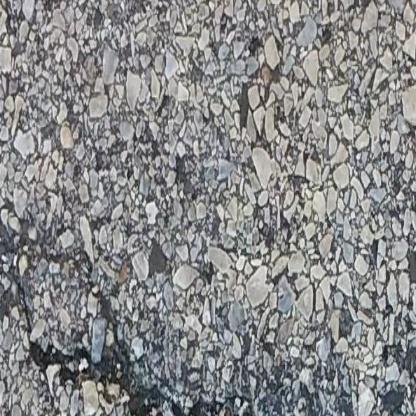Cracks: (2, 255, 364, 416)
